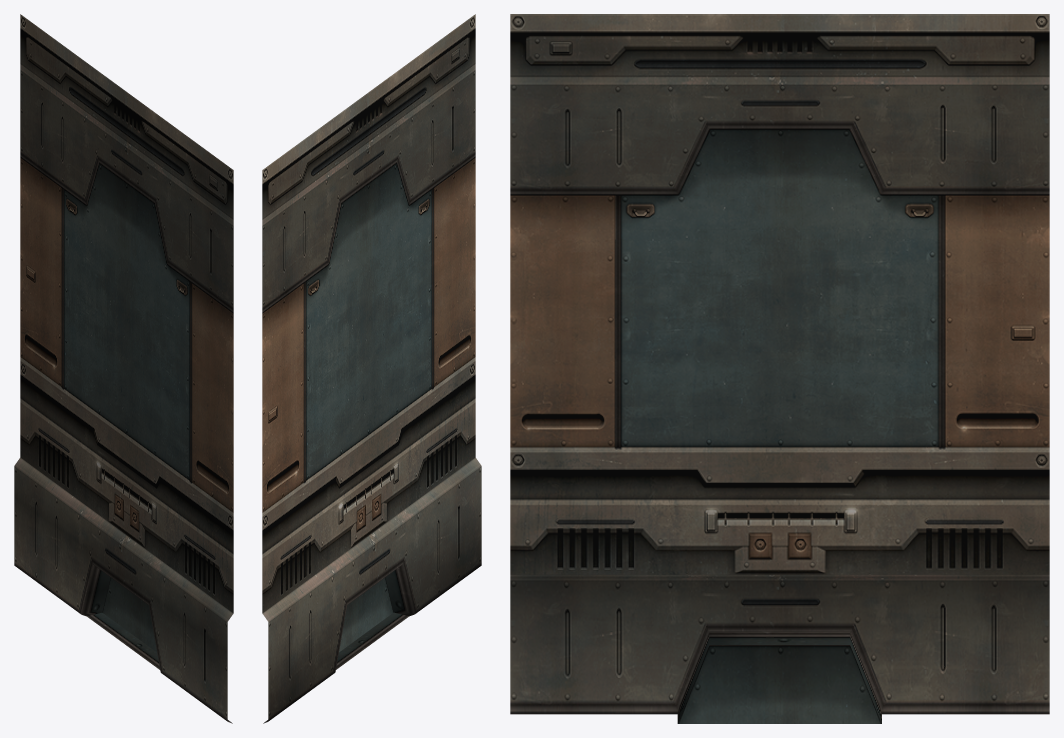
File: mprw_wall_tall.FBX
The picture shows the model from 3 angles, left to right: view 1: azimuth 30°, elevation 25°; view 2: azimuth 150°, elevation 25°; view 3: azimuth 270°, elevation 25°; orthographic projection. The views are drawn at different scales.
Parts seen in each view (by area): view 1: mprw_wall_tall; view 2: mprw_wall_tall; view 3: mprw_wall_tall.
Part boxes in pixels (x1,y1,x2,y2): mprw_wall_tall: (14,14,233,723); mprw_wall_tall: (262,14,481,723); mprw_wall_tall: (510,14,1049,723).
Bounding box in the file's own units: 41.03 × 1003 × 700.
1 material, 1 textured.
